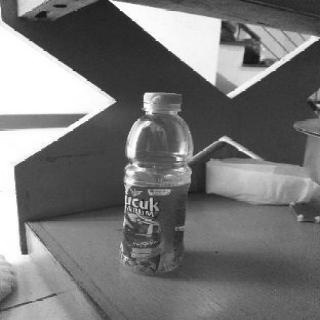plastic_bottles: (120, 91, 197, 279)
